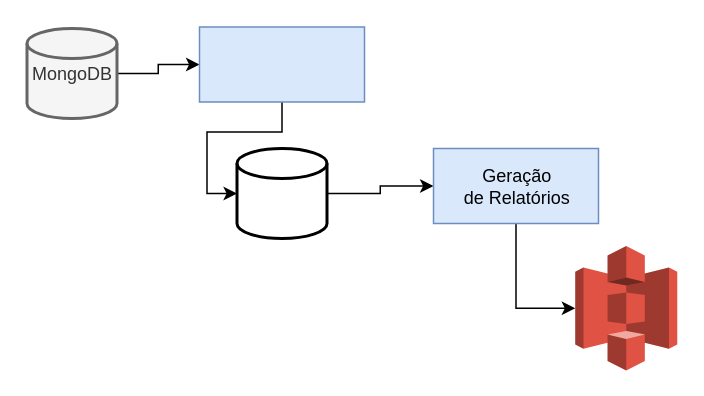
The diagram is 704 pixels wide and 396 high, and some of its shapes have lost their labels. Each missing label, with the centre of its shape:
Base Relatórios: pixel 281 192
Importação: pixel 281 64
